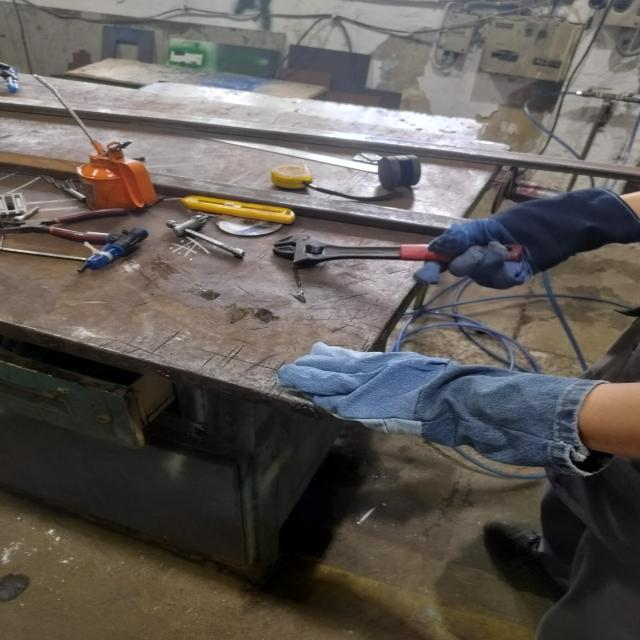Gloves-Detection: (307, 334, 589, 468), (424, 215, 619, 282)
